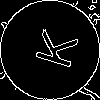K: (25, 25, 79, 71)
